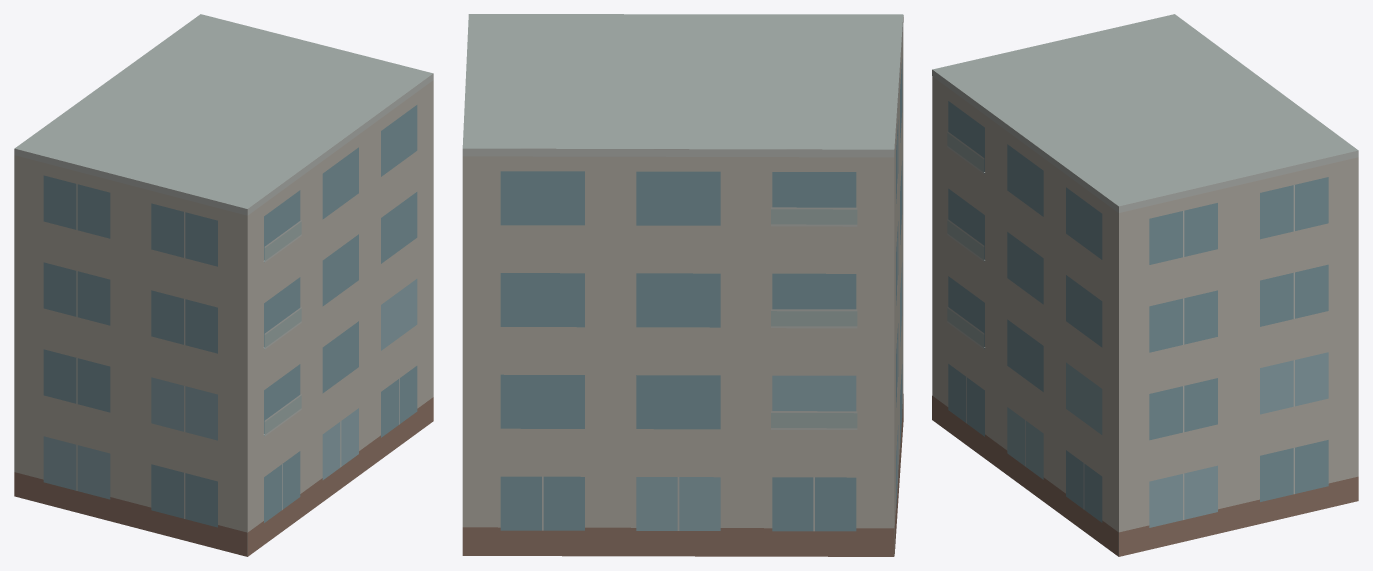
Rendered from survey-upis-32709387.glb.
3 renders of one model, left to right at view 1: azimuth 30°, elevation 25°; view 2: azimuth 150°, elevation 25°; view 3: azimuth 270°, elevation 25°, orthographic. The views are drawn at different scales.
Parts seen in each view (by area): view 1: survey-upis-32709387.tmp; view 2: survey-upis-32709387.tmp; view 3: survey-upis-32709387.tmp.
Boxes of the visible parts, <box> form: survey-upis-32709387.tmp: <box>14,14,433,556</box>; survey-upis-32709387.tmp: <box>462,14,903,556</box>; survey-upis-32709387.tmp: <box>932,14,1358,556</box>.
Size of the model in its own units: 15.08 by 12.8 by 14.13.
